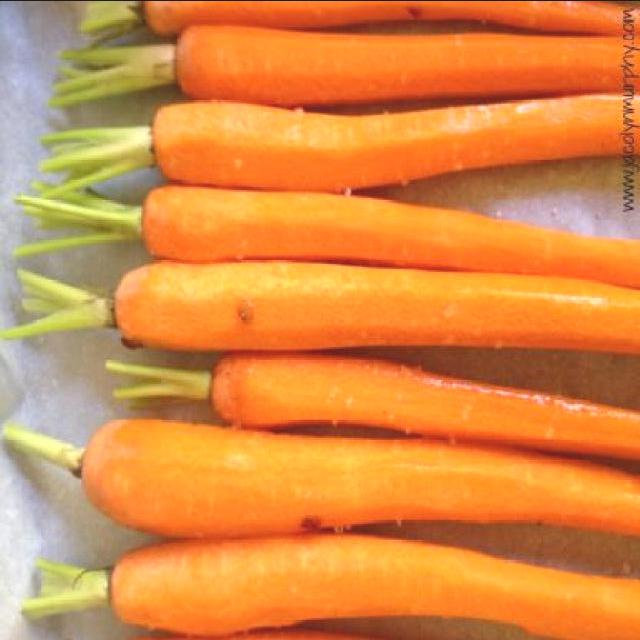carrot: (85, 425, 640, 536), (113, 525, 640, 631), (152, 85, 640, 189), (115, 262, 640, 356), (170, 18, 640, 114), (207, 355, 640, 455), (133, 195, 640, 269)
